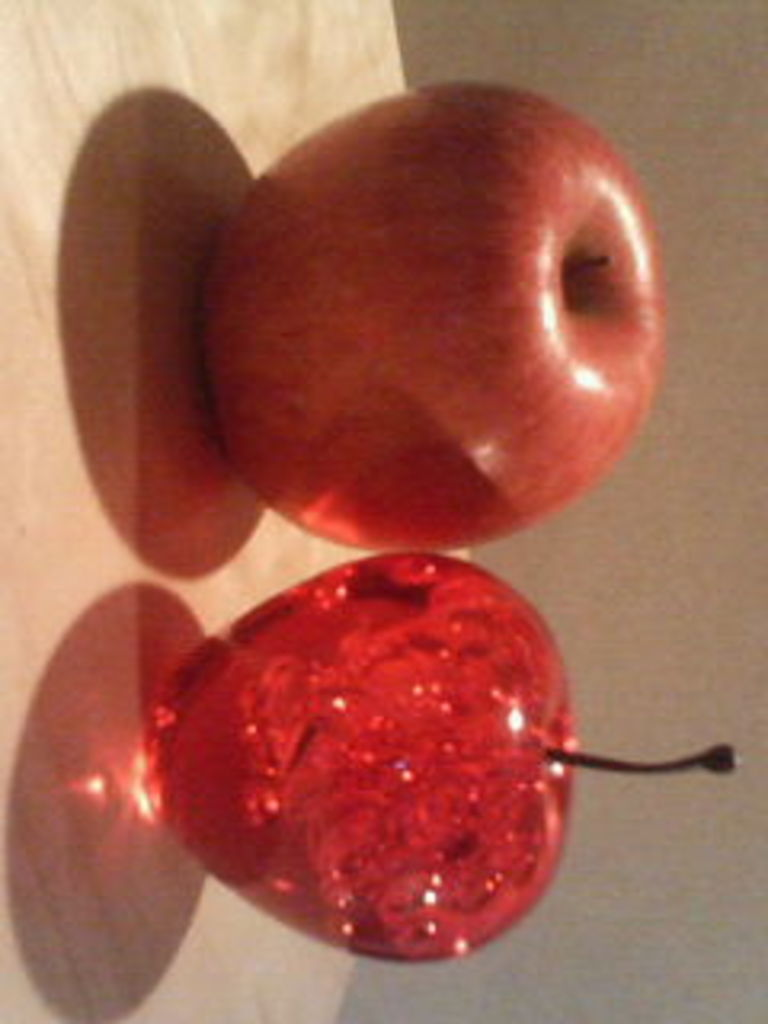Apple: (147, 553, 742, 976), (185, 102, 662, 560)
